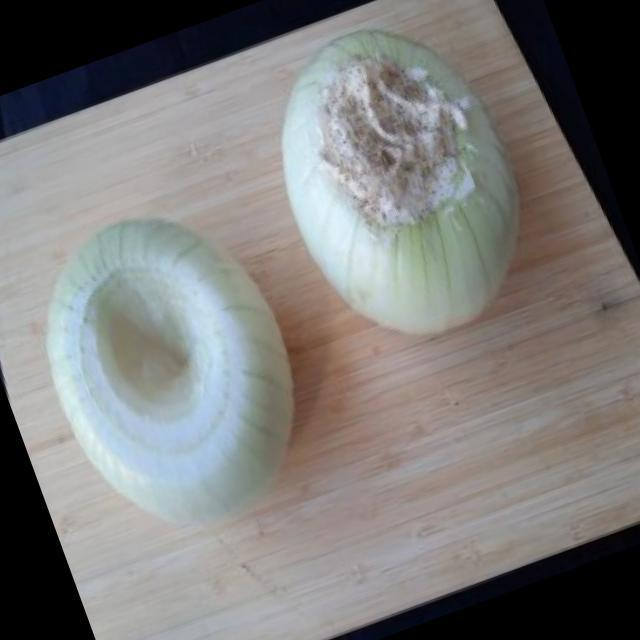Onion: (45, 212, 298, 520), (281, 26, 526, 334)
